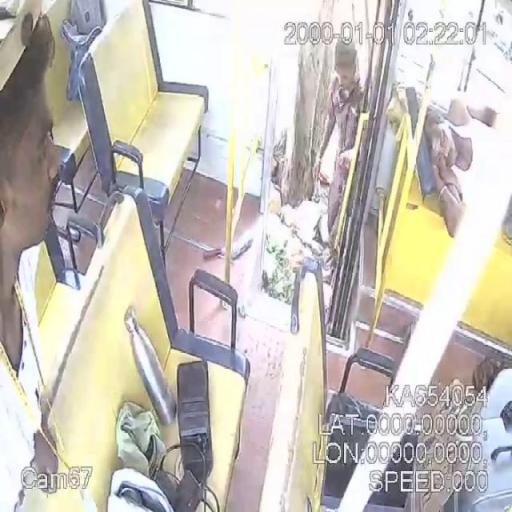persona: (0, 9, 64, 511), (312, 39, 368, 247), (418, 97, 474, 238)
